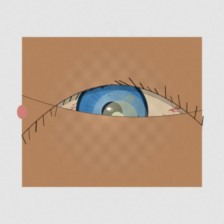corneal_ulcer: (90, 95, 150, 143)
